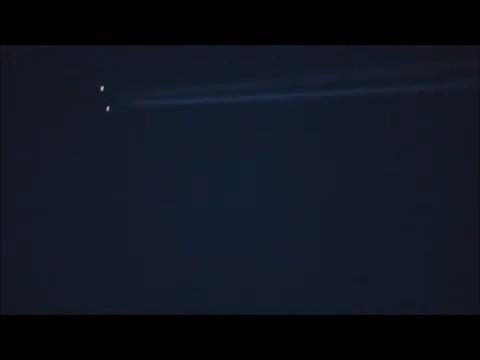Plane: (71, 57, 422, 128)
